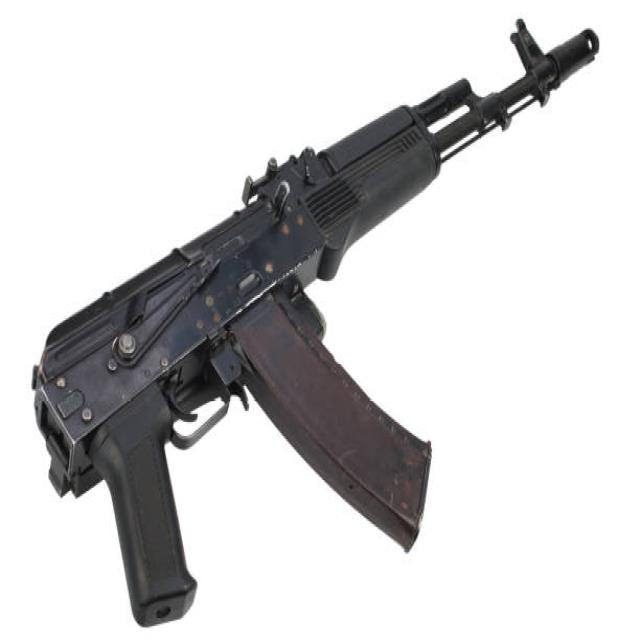rifle: (21, 8, 610, 639)
